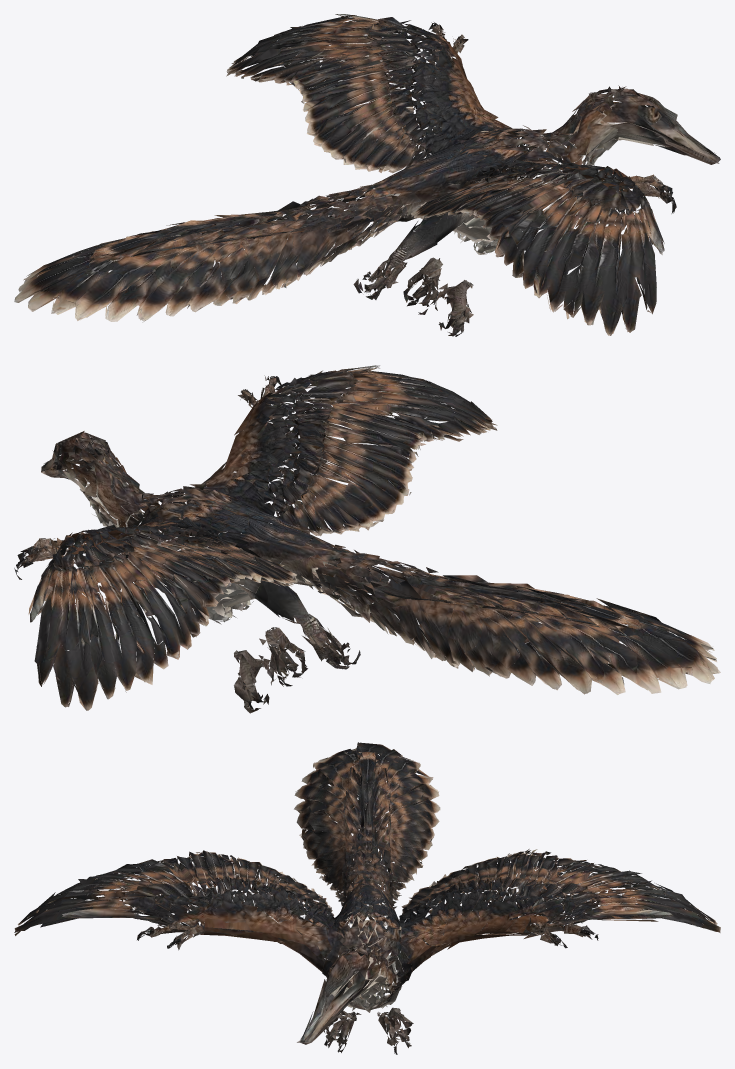
Rendered from archaeo_fly.glb.
3 views of the same model, one above another, from view 1: azimuth 30°, elevation 25°; view 2: azimuth 150°, elevation 25°; view 3: azimuth 270°, elevation 25° (orthographic). The views are drawn at different scales.
Visible parts, largest first — view 1: Mesh_0; view 2: Mesh_0; view 3: Mesh_0.
Part boxes in pixels (bbox=[...]): Mesh_0: bbox=[14, 14, 720, 336]; Mesh_0: bbox=[14, 365, 720, 713]; Mesh_0: bbox=[14, 742, 720, 1054].
Size of the model in its own units: 1 by 0.2946 by 0.9836.
1 material, 1 textured.
